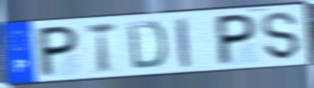D: (125, 20, 169, 71)
I: (174, 15, 193, 70)
P: (38, 24, 81, 80), (216, 12, 259, 68)
S: (260, 11, 302, 62)
T: (85, 21, 119, 75)
